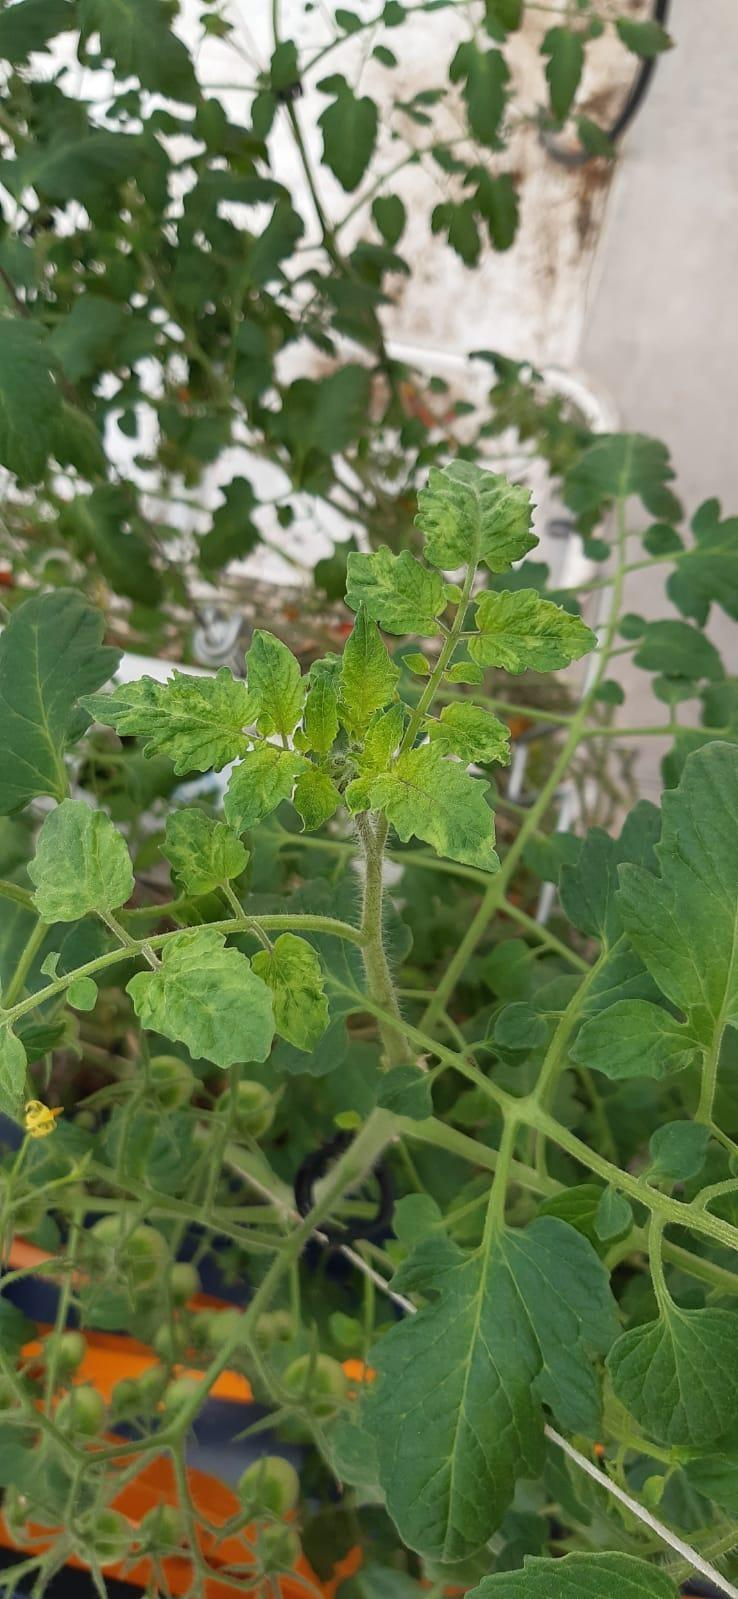Rugose leaf: (128, 928, 275, 1068), (344, 744, 498, 871), (80, 670, 257, 774), (29, 799, 135, 924), (469, 590, 596, 675), (347, 547, 446, 637), (253, 934, 328, 1052), (340, 606, 400, 740), (162, 809, 250, 896), (225, 746, 309, 834), (247, 631, 306, 737), (425, 703, 509, 762), (303, 656, 340, 756), (294, 768, 340, 831)
Rugose stem: (356, 812, 399, 1018), (381, 1024, 412, 1067)
